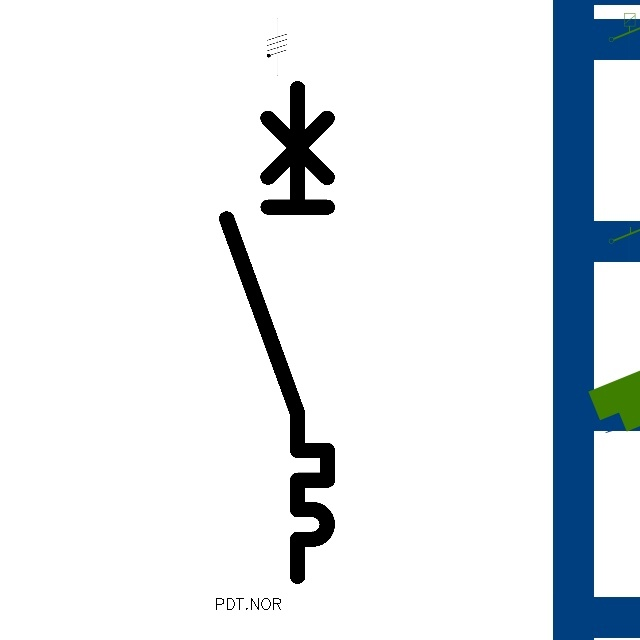interruptor_termomagnetico: (214, 76, 340, 589)
